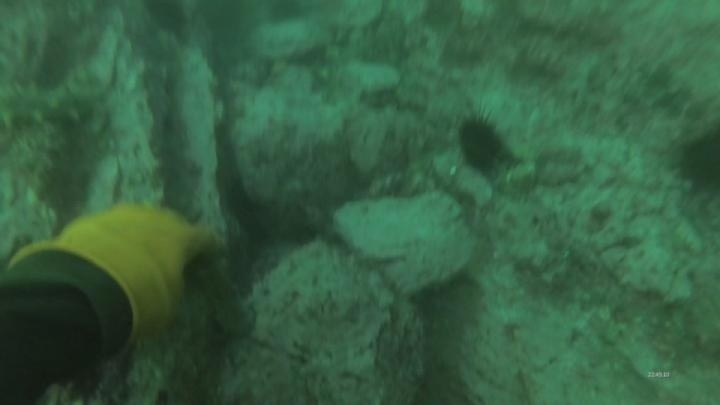echinus: (454, 112, 507, 175), (673, 127, 720, 196), (141, 1, 190, 38), (264, 1, 308, 28)
holothurian: (176, 251, 260, 337), (1, 76, 106, 132)
